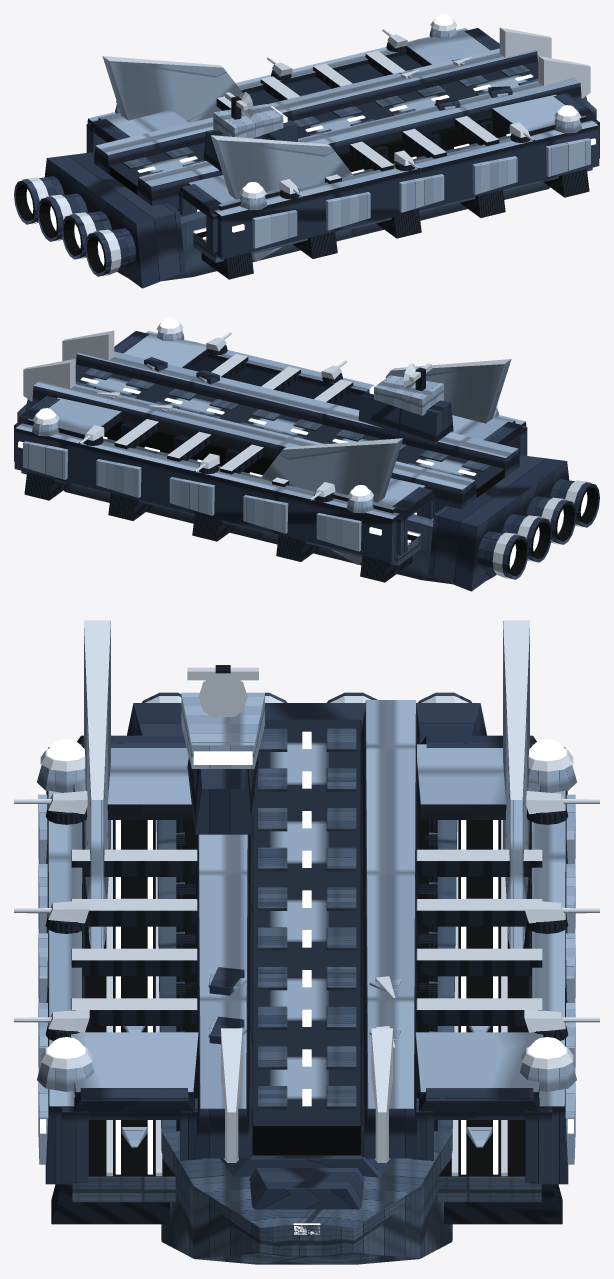
Rendered from carrier.glb.
3 renders of one model, top to bottom at view 1: azimuth 30°, elevation 25°; view 2: azimuth 150°, elevation 25°; view 3: azimuth 270°, elevation 25°, orthographic. The views are drawn at different scales.
Visible parts, largest first — view 1: hull_body, engine_block, sensor_island, shield_domes, weapon_turrets; view 2: hull_body, engine_block, sensor_island, shield_domes, weapon_turrets; view 3: hull_body, sensor_island, shield_domes, weapon_turrets, engine_block.
Boxes of the visible parts, box(x1,y1,x2,y2) form: hull_body: box(86, 27, 599, 280); engine_block: box(14, 152, 185, 288); sensor_island: box(203, 92, 297, 172); shield_domes: box(115, 14, 581, 210); weapon_turrets: box(267, 29, 535, 199); hull_body: box(14, 330, 527, 583); engine_block: box(428, 455, 599, 591); sensor_island: box(358, 363, 453, 444); shield_domes: box(32, 317, 498, 513); weapon_turrets: box(78, 332, 346, 502); hull_body: box(38, 620, 575, 1264); sensor_island: box(181, 665, 264, 834); shield_domes: box(37, 739, 576, 1091); weapon_turrets: box(14, 791, 599, 1040); engine_block: box(127, 692, 486, 743).
Bounding box in the file's own units: 55 × 15.75 × 27.45.
1 material, 1 textured.
